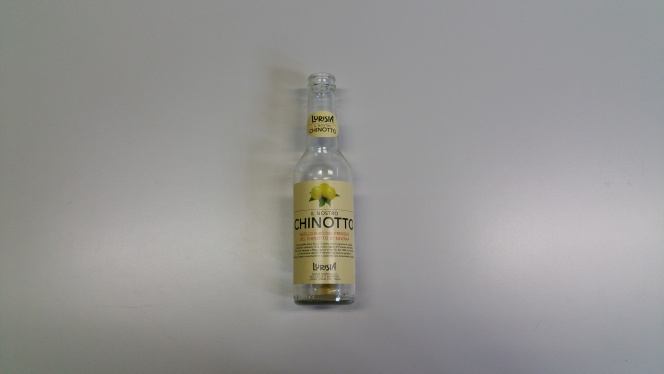bottle: (280, 70, 372, 310)
